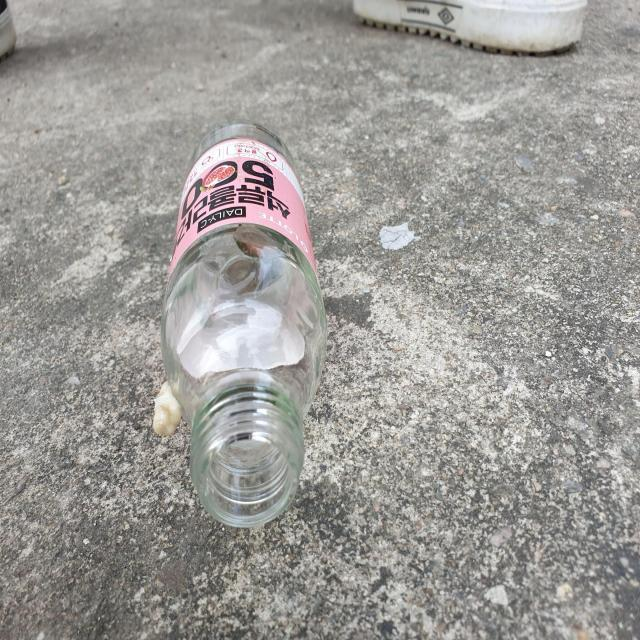glass: (161, 121, 326, 527)
